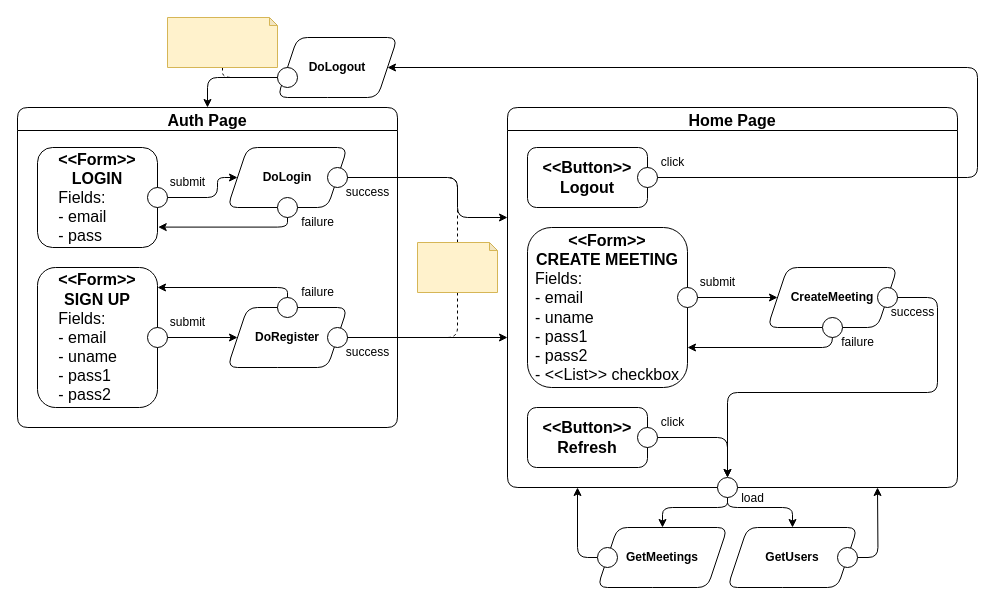
Image size: 1003x605. Some labels were removed from this diagram. Here are the shapes that lost their labels. From the top down, the centre of each, then its label:
At (x=222, y=42): "session is removed".
At (x=457, y=267): "user info is added to the session".
